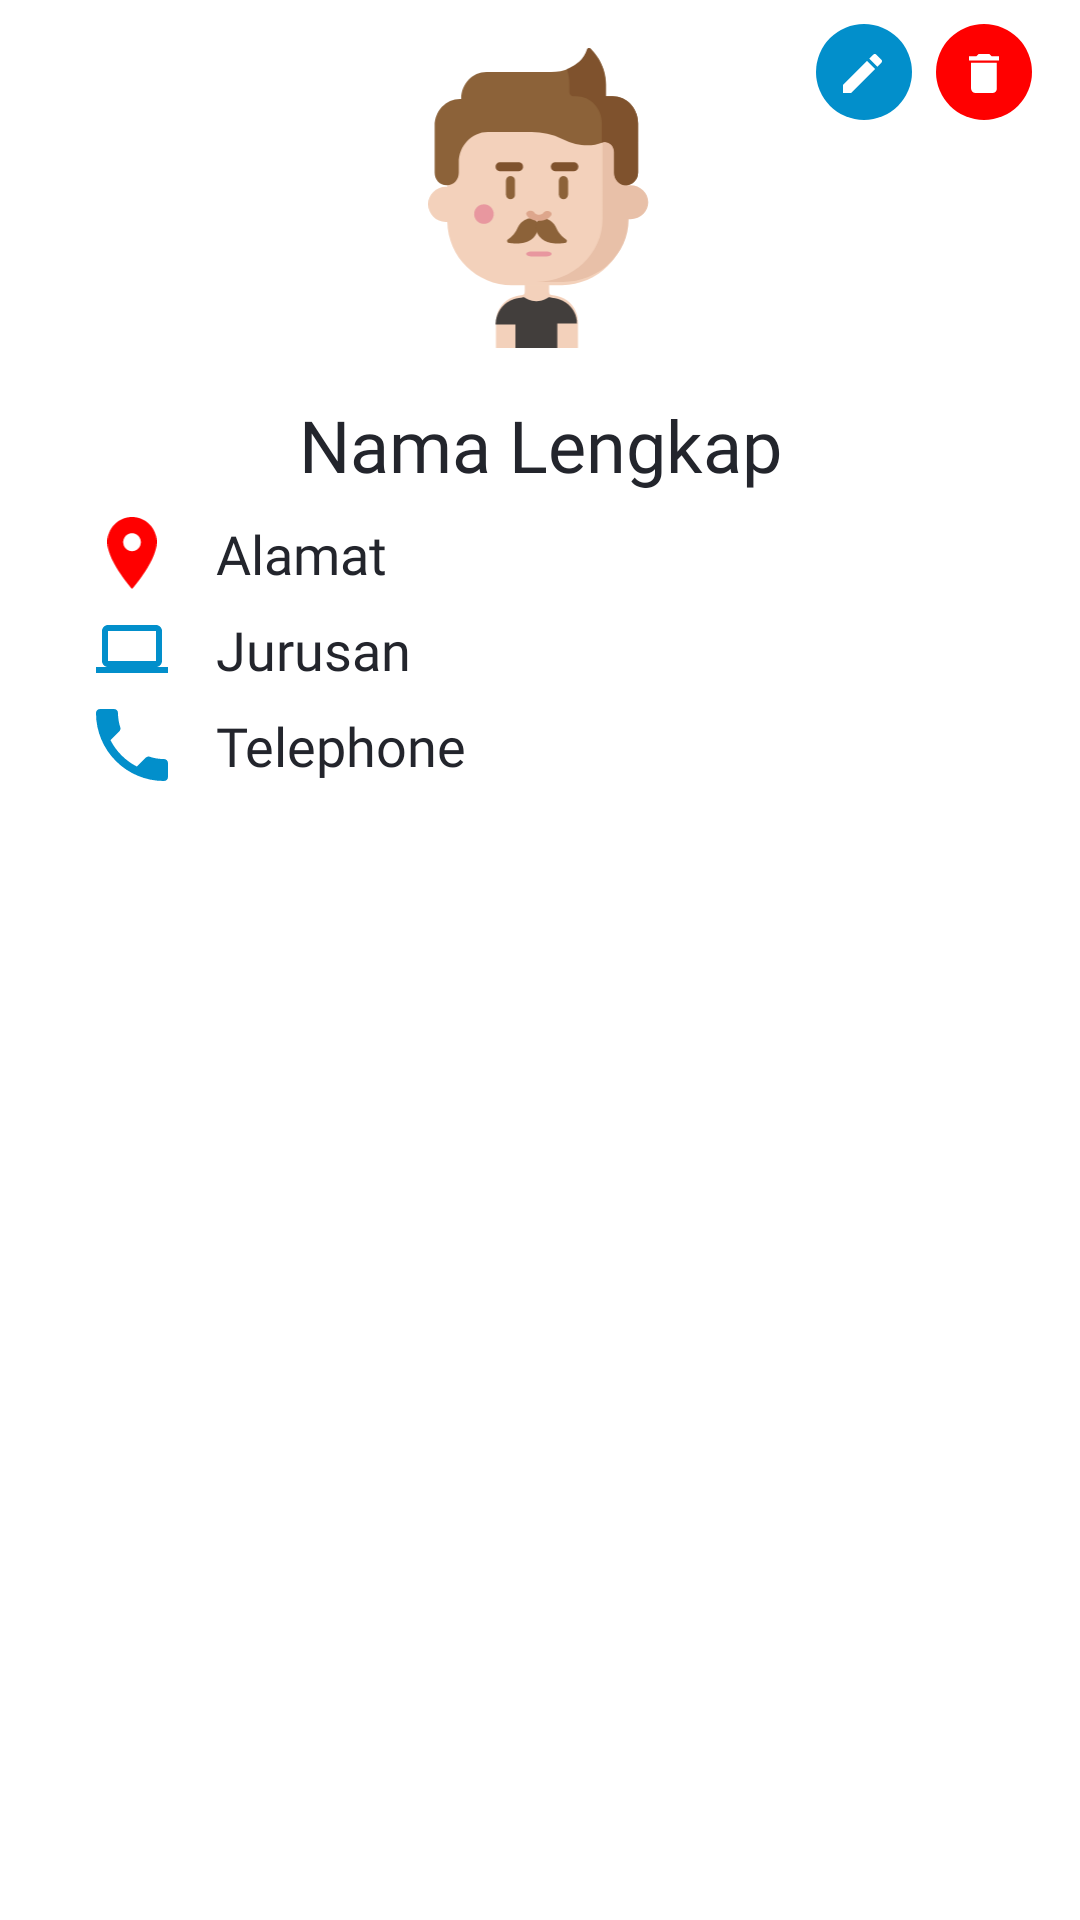

Screen size 1080 x 1920. Icon name, then its box in pixels as bbox=[x1, y1, x2, y2]:
delete: bbox=[936, 24, 1032, 120]
edit: bbox=[816, 24, 912, 120]
laptop: bbox=[96, 625, 168, 673]
location: bbox=[107, 517, 157, 589]
man clicked: bbox=[428, 48, 648, 348]
